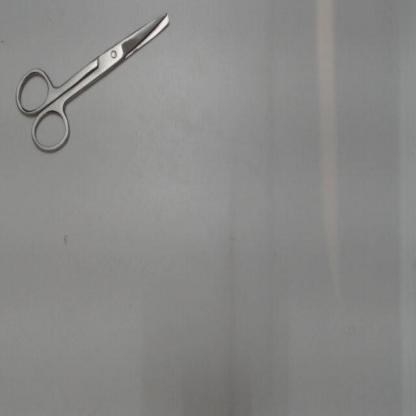Dressing Scissors: (4, 3, 184, 163)
